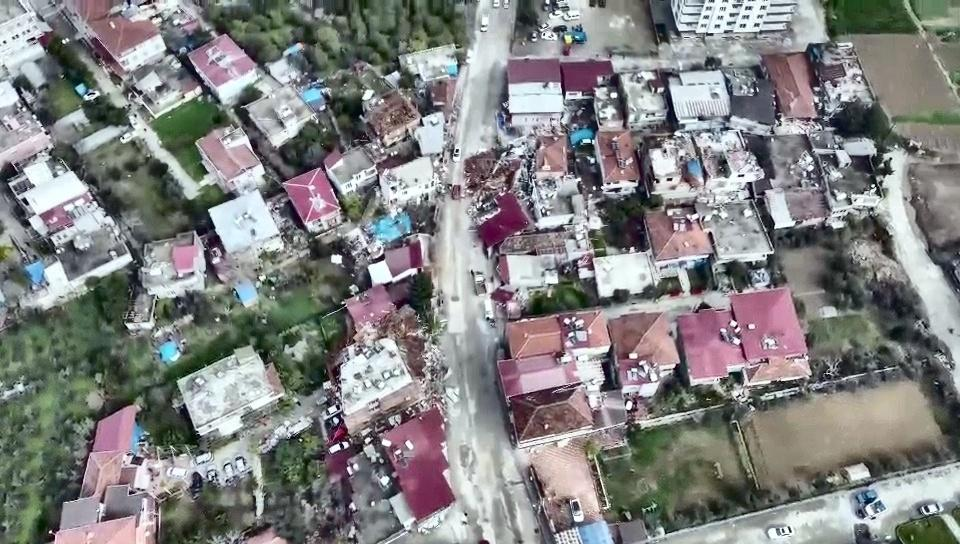kapali: (435, 128, 498, 266)
